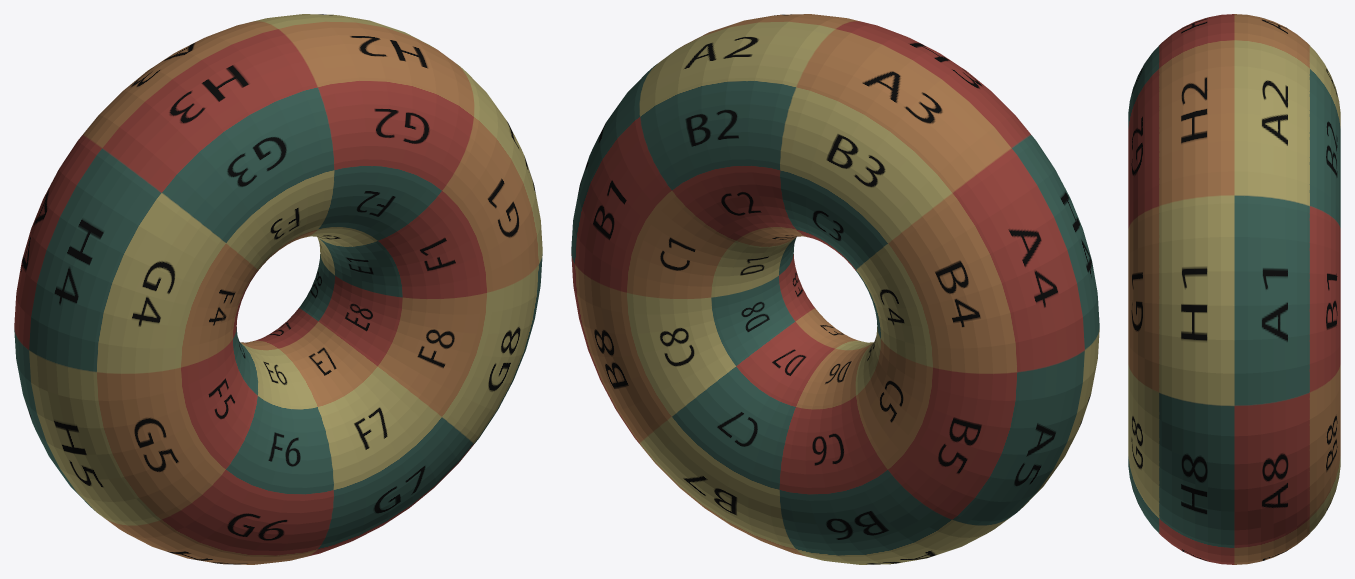
File: texture_torus_R5_r24.glb
The picture shows the model from 3 angles, left to right: view 1: azimuth 30°, elevation 25°; view 2: azimuth 150°, elevation 25°; view 3: azimuth 270°, elevation 25°; orthographic projection. The views are drawn at different scales.
Visible parts, largest first — view 1: world; view 2: world; view 3: world.
Boxes of the visible parts, bbox=[...] form: world: bbox=[14, 14, 542, 564]; world: bbox=[571, 14, 1099, 564]; world: bbox=[1128, 14, 1340, 564].
Bounding box in the file's own units: 21.73 × 21.69 × 8.38.
Materials: 1 (1 with a texture image).
